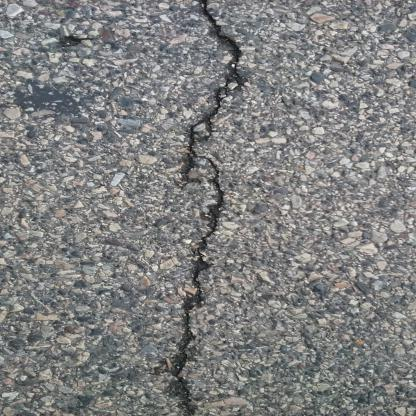Cracks: (155, 0, 259, 415)
